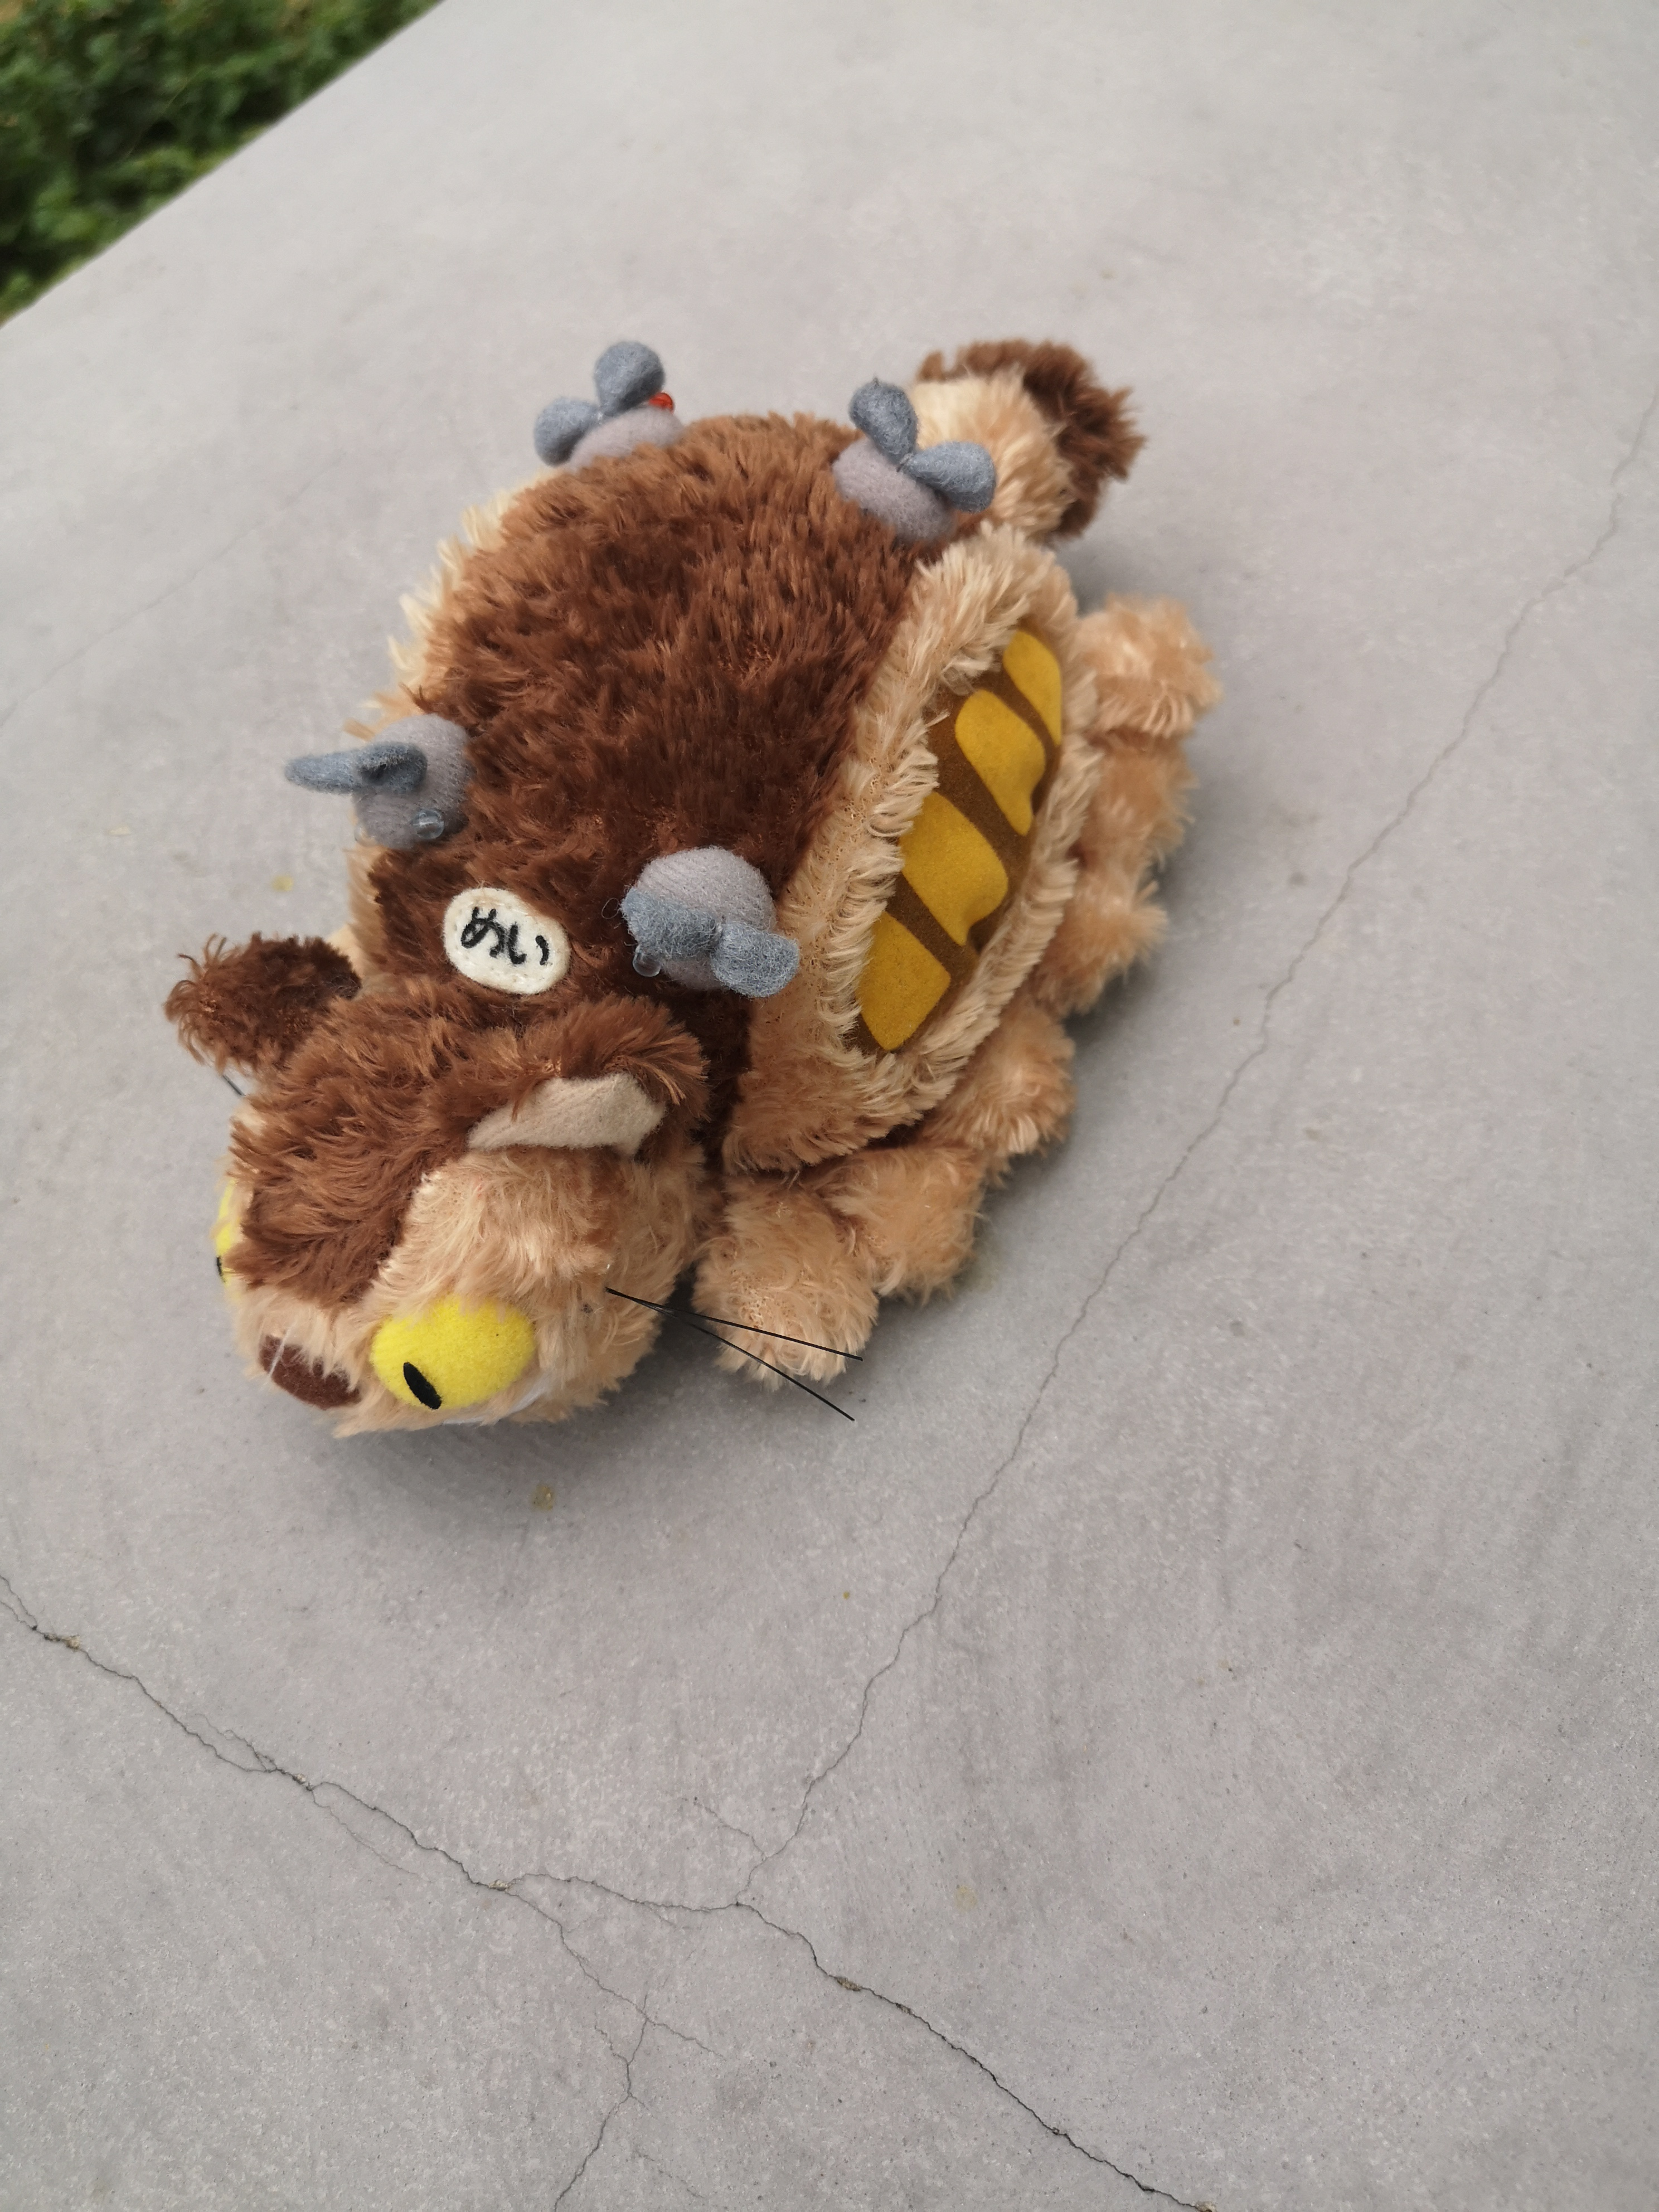nekobus: (160, 326, 1244, 1474)
